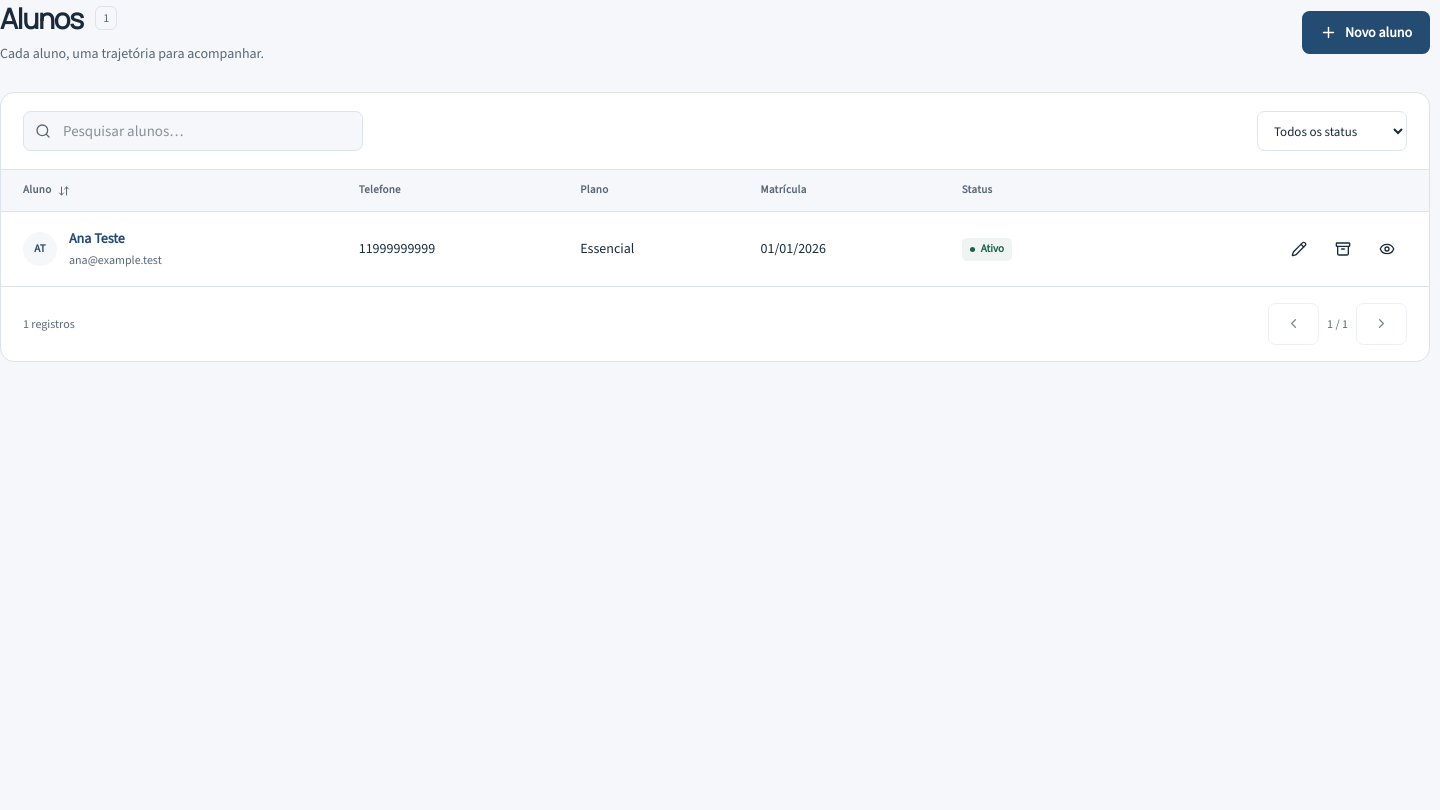
Test case: students › cria registro com validação e atualiza os dados exibidos
Expected: the table is shown, [1, 170, 1429, 286]
Click the button "Novo aluno": (1366, 32) [1302, 11, 1430, 54]
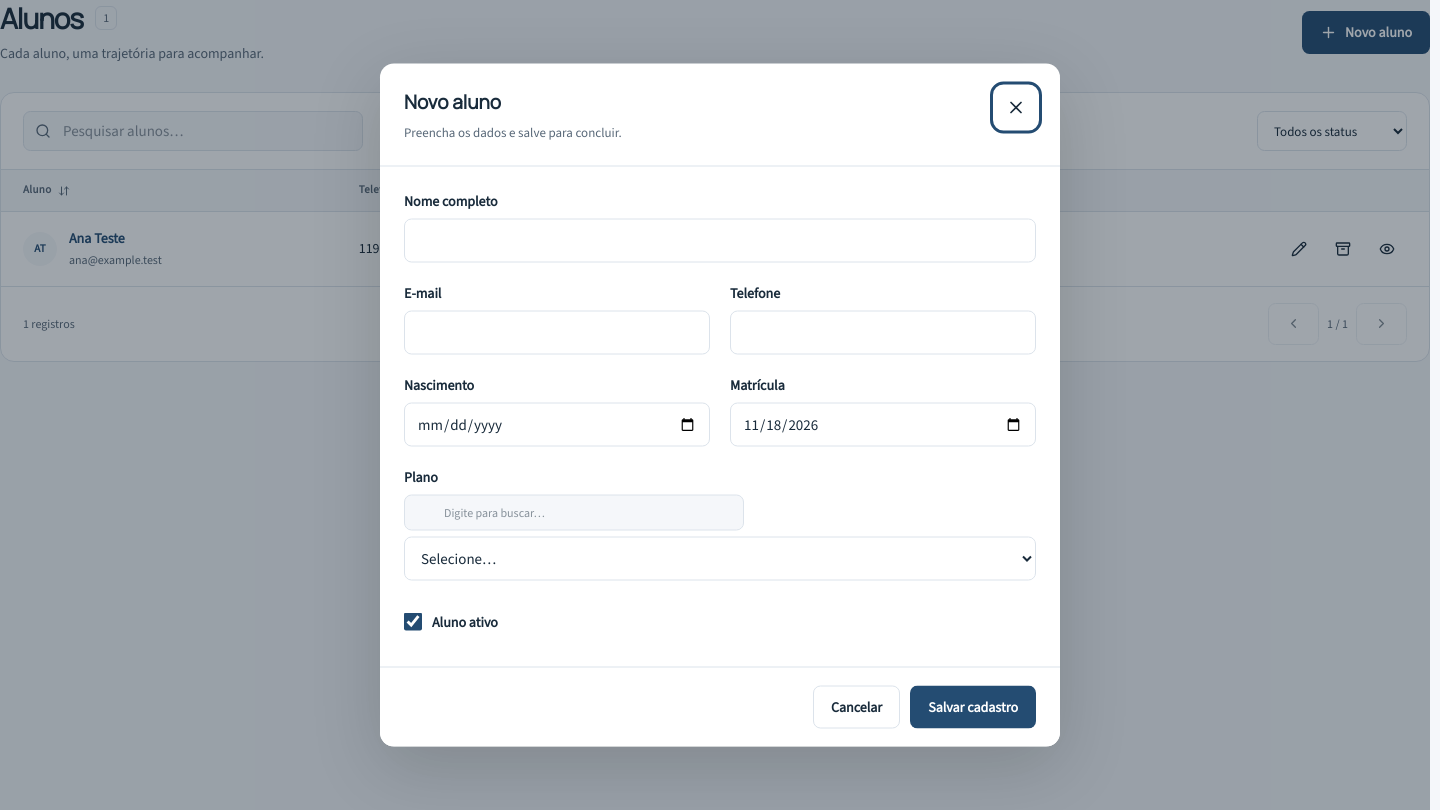
In the field labelled "Nome completo": (720, 240) [404, 218, 1036, 262], type "Aluno novo"
In the field labelled "E-mail": (557, 332) [404, 310, 710, 354], type "novo@example.test"
In the field labelled "Telefone": (883, 332) [730, 310, 1036, 354], type "11999997777"
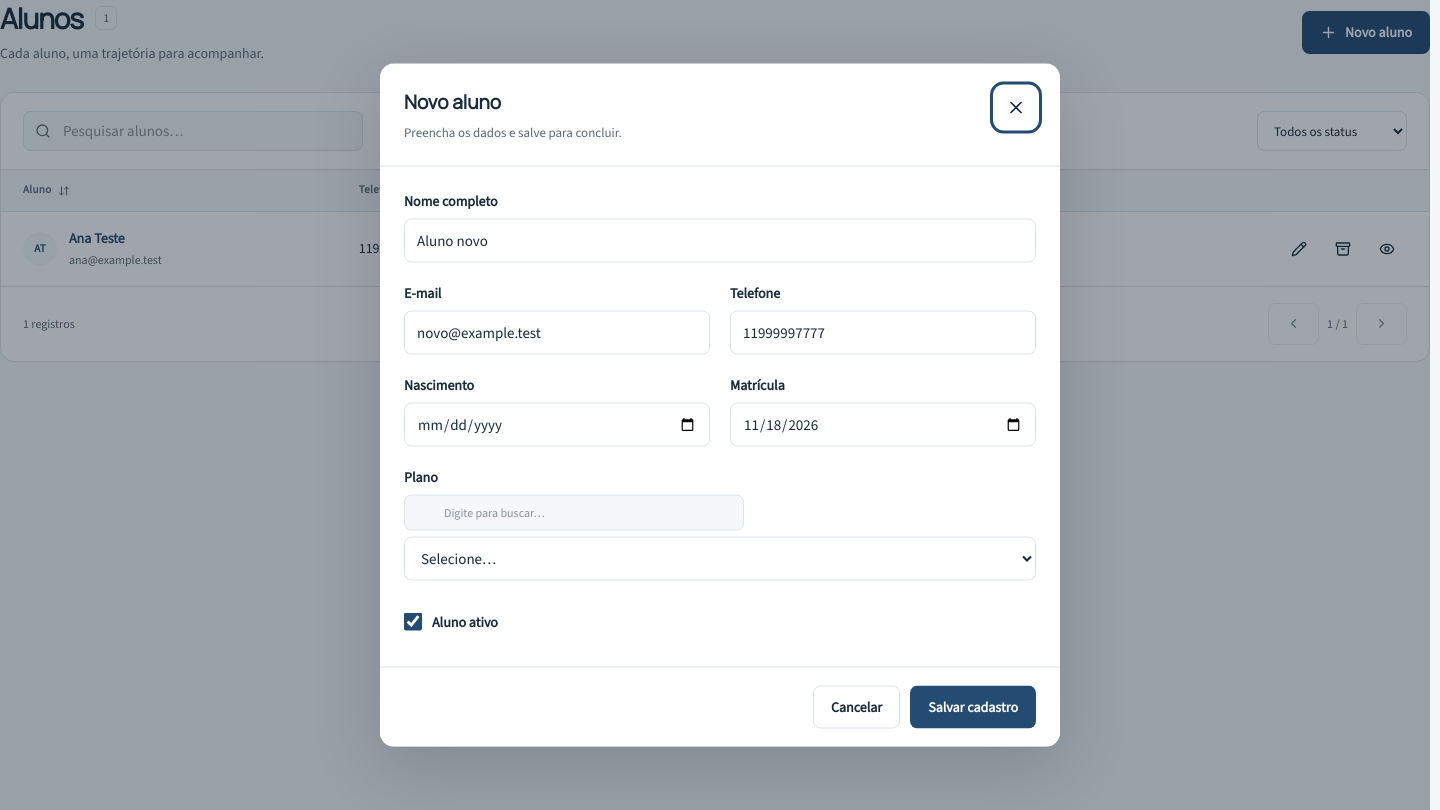
In the date field labelled "Nascimento": (557, 424) [404, 402, 710, 446], type "2000-01-01"
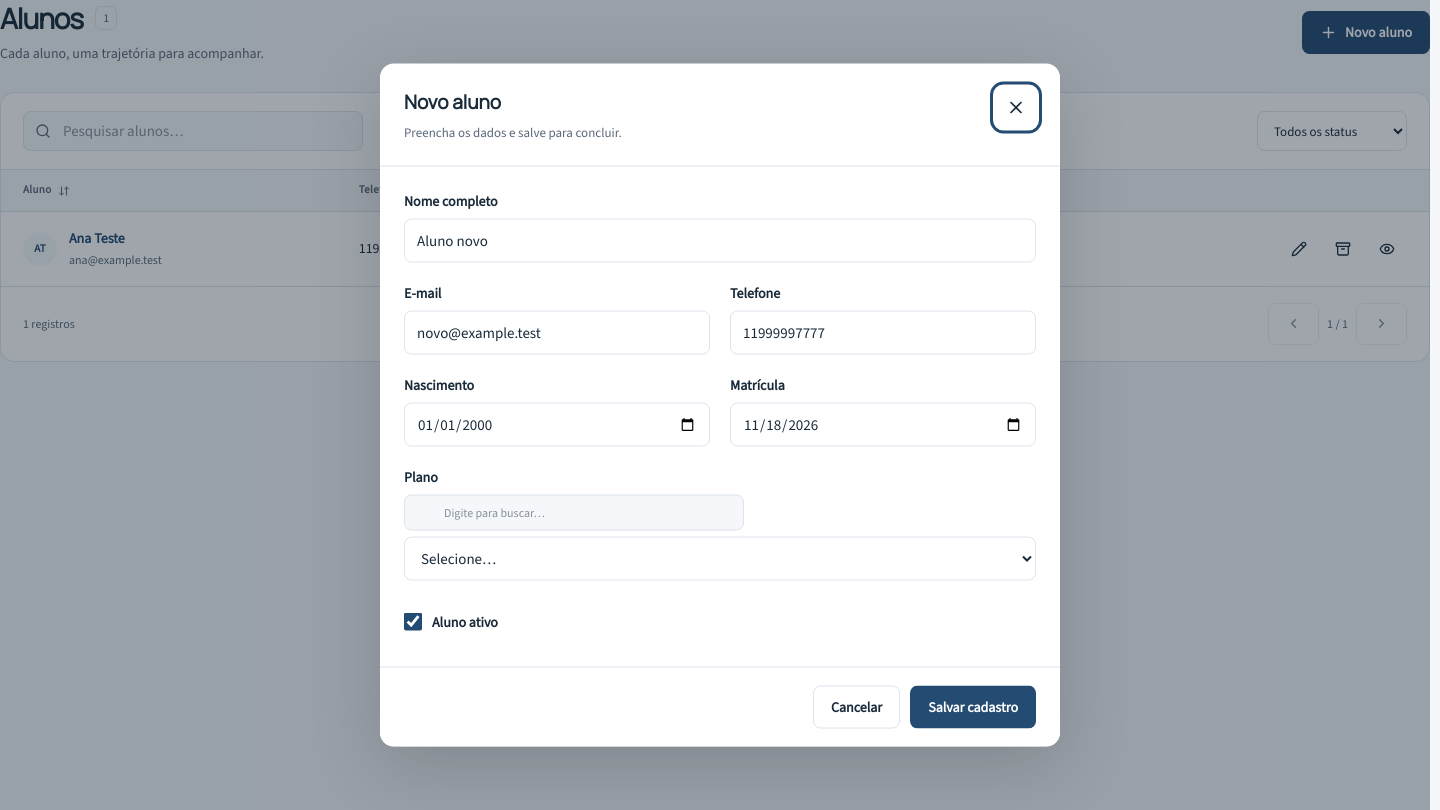
In the date field labelled "Matrícula": (883, 424) [730, 402, 1036, 446], type "2026-01-01"
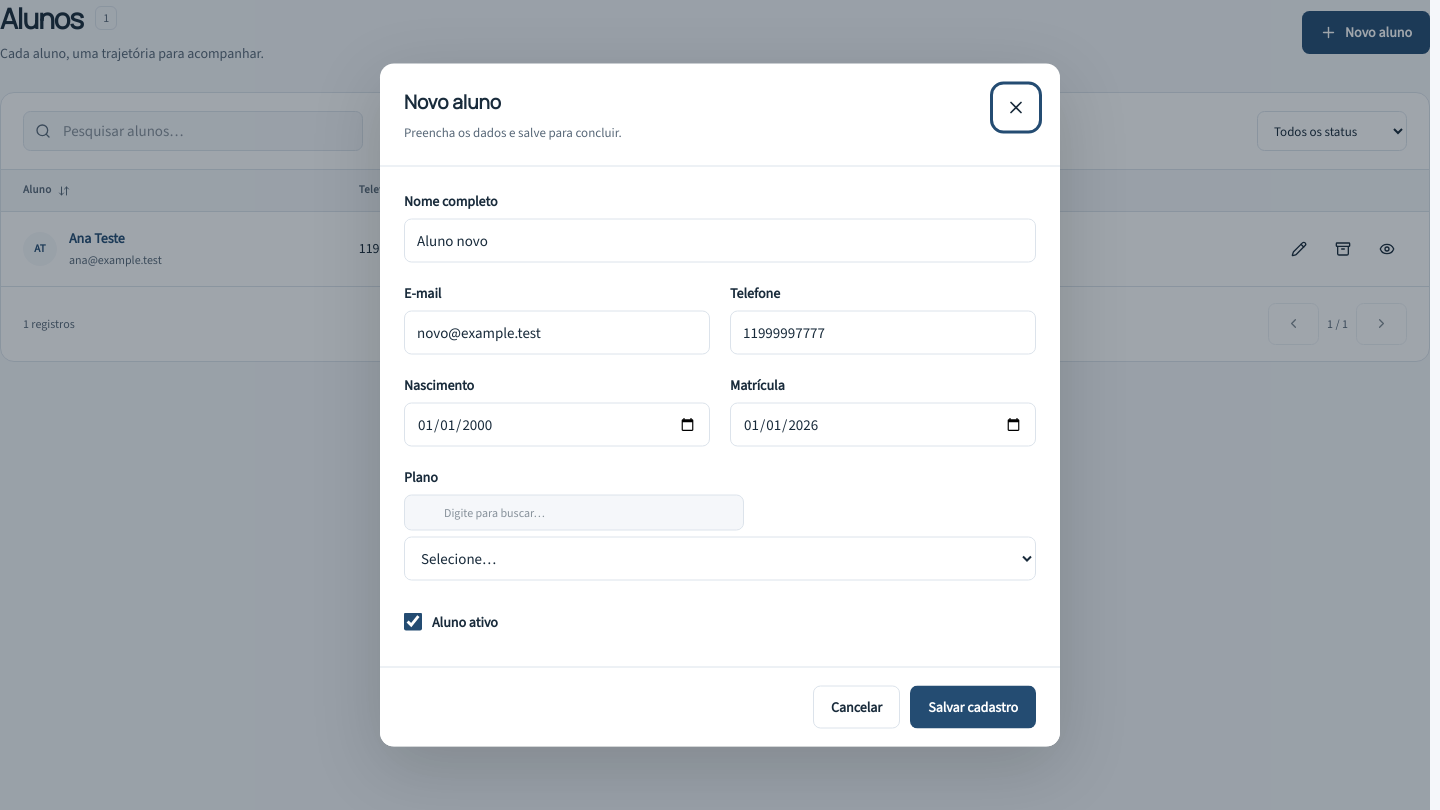
Select "Essencial" in the dropdown labelled "Plano": (720, 558) [404, 536, 1036, 580]
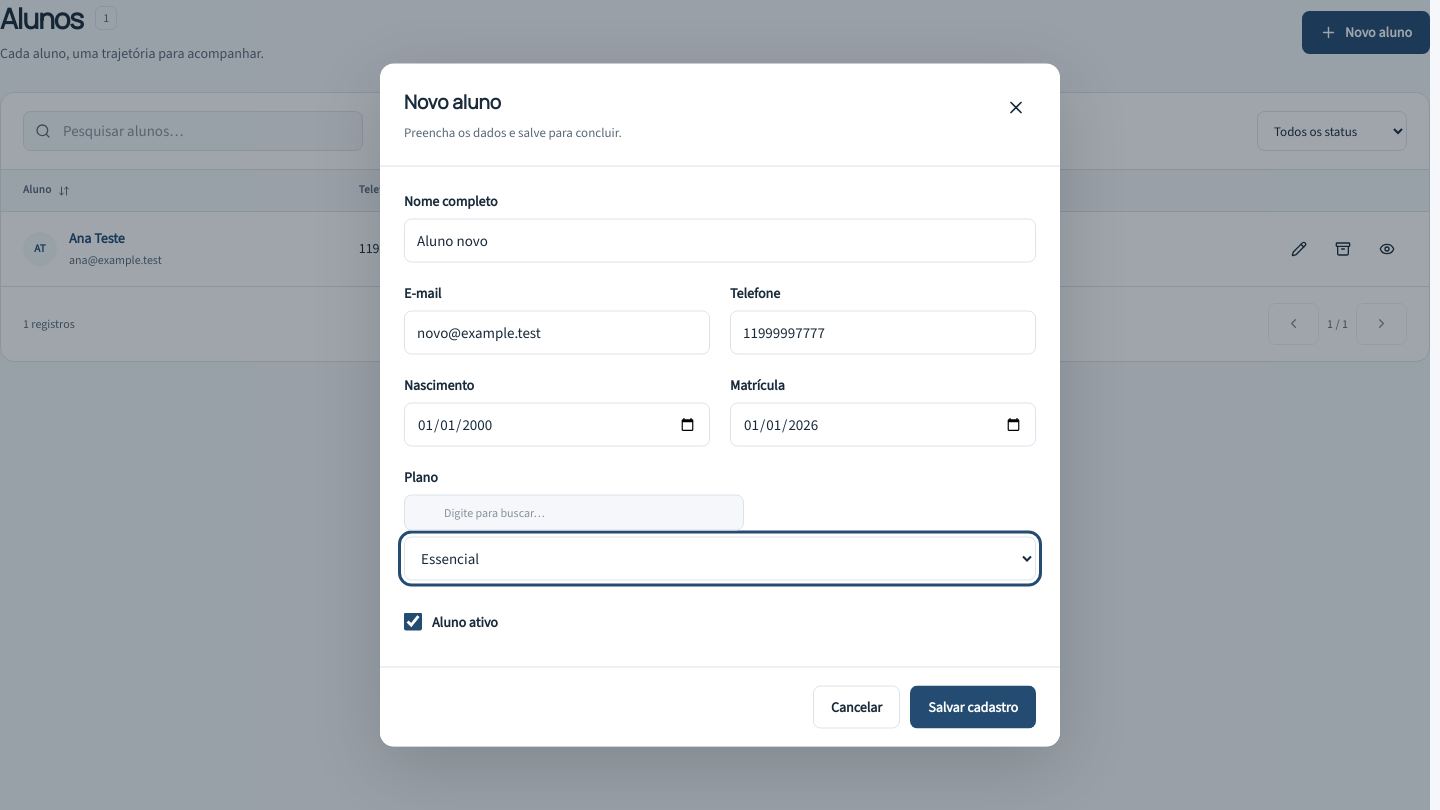
Click the button "Salvar cadastro": (973, 707) [910, 686, 1036, 728]
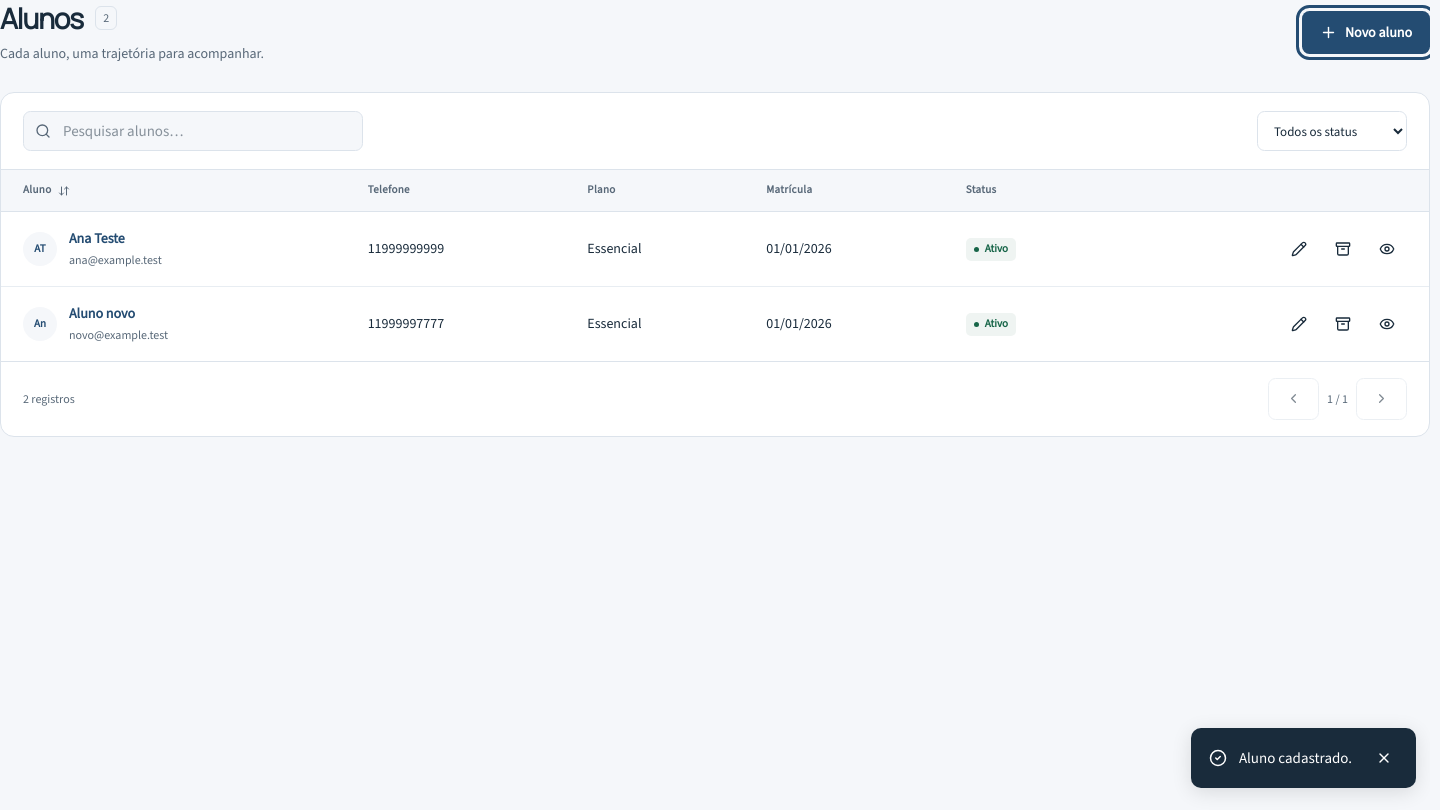
Now the dialog is gone
Now the message reads "Aluno cadastrado.", box [1239, 748, 1352, 768]
